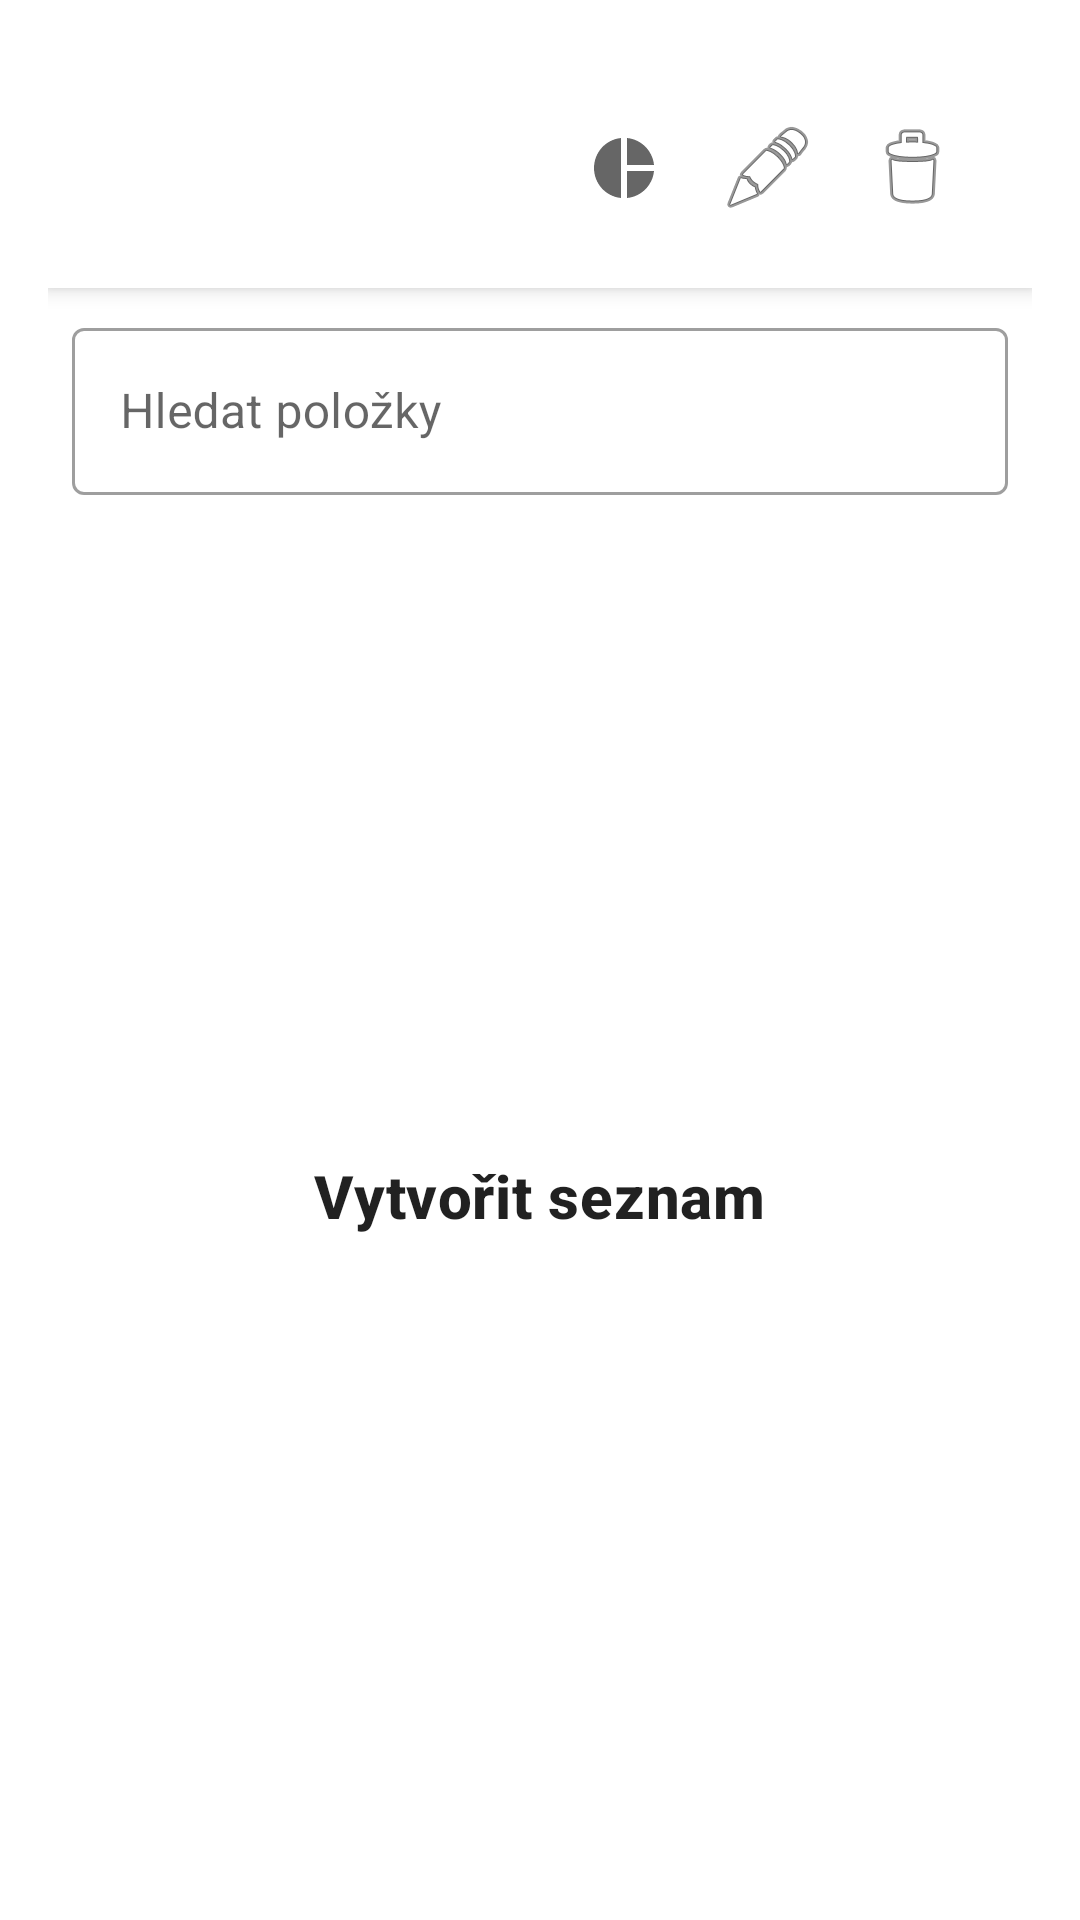

Point at icon controls on the screen. Image size 1080*1920, points as (x=x, y=y).
Smazat seznam: (x=912, y=166)
Statistika: (x=624, y=168)
Upravit seznam: (x=767, y=167)
